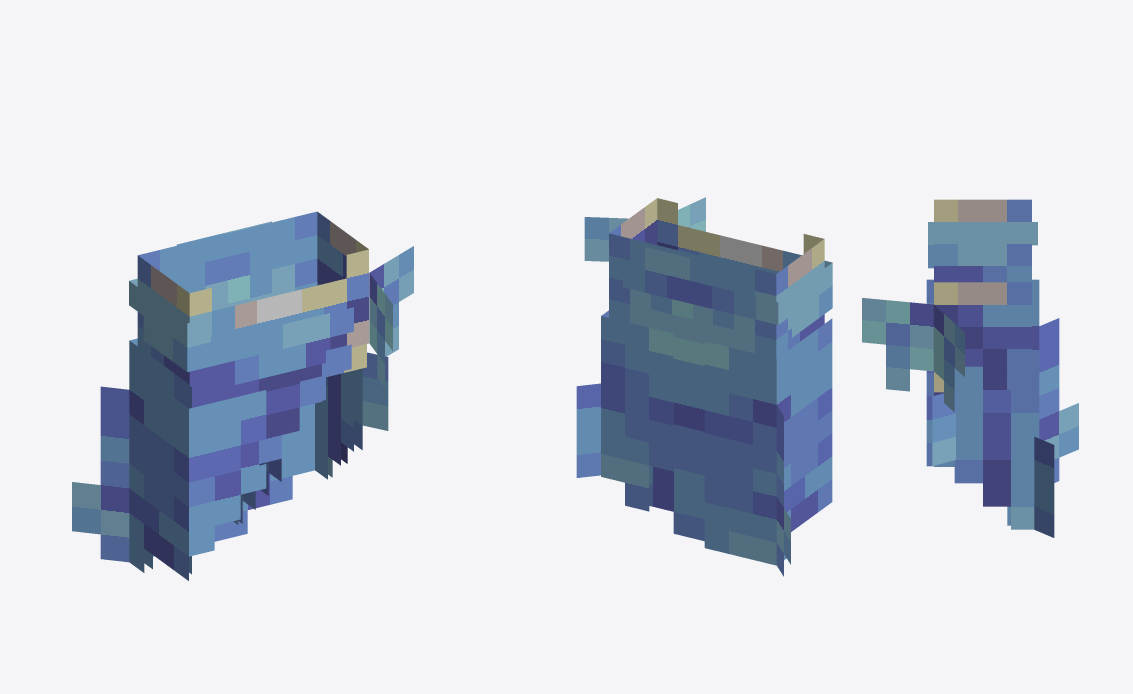
The model's file is sl_beach_skirt.glb.
The picture shows the model from 3 angles, left to right: view 1: azimuth 30°, elevation 25°; view 2: azimuth 150°, elevation 25°; view 3: azimuth 270°, elevation 25°; orthographic projection. The views are drawn at different scales.
Visible parts, largest first — view 1: bb_beach_skirt; view 2: bb_beach_skirt; view 3: bb_beach_skirt.
Boxes of the visible parts, x1=… form: bb_beach_skirt: x1=72, y1=211, x2=413, y2=580; bb_beach_skirt: x1=576, y1=197, x2=832, y2=576; bb_beach_skirt: x1=862, y1=199, x2=1078, y2=537.
Size of the model in its own units: 0.9316 by 1.53 by 0.6583.
Materials: 1 (1 with a texture image).
